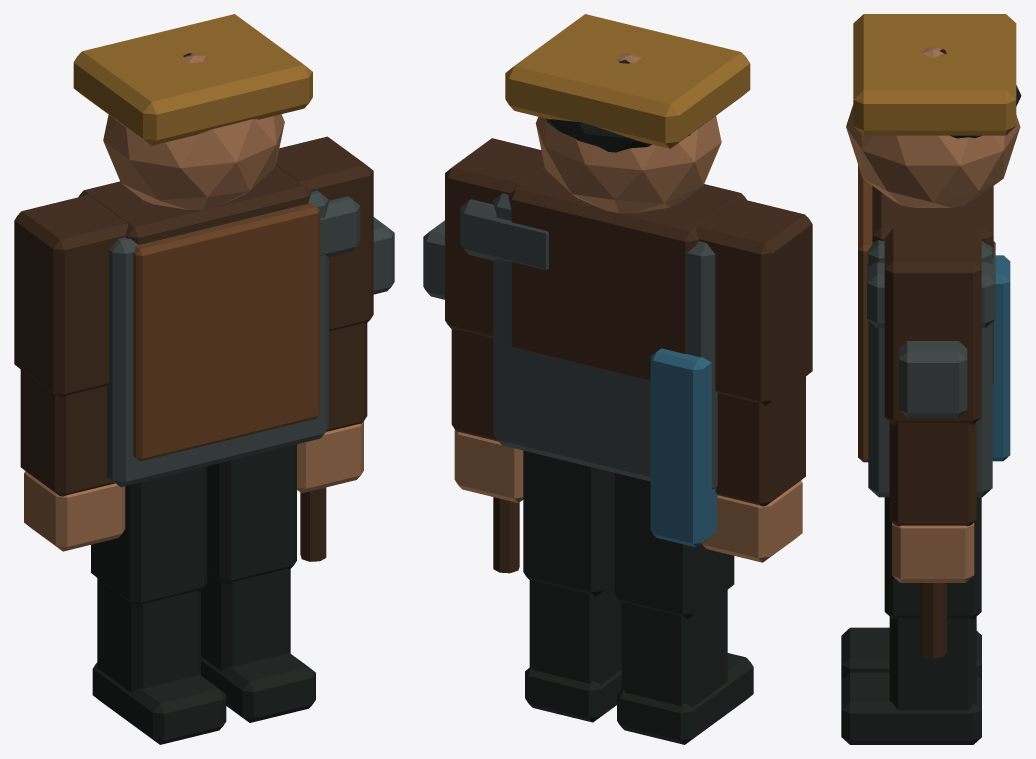
The model's file is ValeBelforgeForeman.glb.
The picture shows the model from 3 angles, left to right: view 1: azimuth 30°, elevation 25°; view 2: azimuth 150°, elevation 25°; view 3: azimuth 270°, elevation 25°; orthographic projection. The views are drawn at different scales.
Parts seen in each view (by area): view 1: UpperTorso_WorkHarness, Head_ForemanCap, LeftUpperArm, UpperTorso_Tunic, Head, LeftUpperLeg, RightUpperLeg, LeftLowerLeg, LeftLowerArm, RightUpperArm, RightLowerLeg, UpperTorso (+8 smaller); view 2: UpperTorso, UpperTorso_Tunic, Head_ForemanCap, LeftUpperArm, LowerTorso_BlueprintTube, RightUpperLeg, Head, LeftUpperLeg, LeftLowerLeg, LeftLowerArm, RightUpperArm, RightLowerLeg (+9 smaller); view 3: Head_ForemanCap, RightUpperArm, Head, RightLowerArm, RightLowerLeg, RightFoot, UpperTorso_Tunic, RightHand_HammerHead, RightHand, UpperTorso, RightUpperLeg, LowerTorso_BlueprintTube (+4 smaller).
Part boxes in pixels (x1,y1,x2,y2): UpperTorso_WorkHarness: [133, 203, 320, 461]; Head_ForemanCap: [73, 14, 312, 145]; LeftUpperArm: [14, 195, 128, 398]; UpperTorso_Tunic: [107, 190, 328, 487]; Head: [103, 53, 284, 209]; LeftUpperLeg: [91, 466, 207, 606]; RightUpperLeg: [207, 444, 296, 584]; LeftLowerLeg: [97, 578, 200, 692]; LeftLowerArm: [20, 369, 114, 496]; RightUpperArm: [276, 136, 373, 331]; RightLowerLeg: [201, 569, 290, 670]; UpperTorso: [78, 165, 311, 244]; UpperTorso: [508, 168, 746, 380]; UpperTorso_Tunic: [493, 193, 717, 489]; Head_ForemanCap: [505, 14, 750, 148]; LeftUpperArm: [696, 197, 812, 406]; LowerTorso_BlueprintTube: [650, 348, 717, 547]; RightUpperLeg: [523, 450, 614, 596]; Head: [535, 53, 721, 213]; LeftUpperLeg: [615, 473, 734, 619]; LeftLowerLeg: [621, 590, 727, 707]; LeftLowerArm: [715, 376, 805, 506]; RightUpperArm: [445, 138, 544, 337]; RightLowerLeg: [529, 580, 621, 684]; Head_ForemanCap: [853, 14, 1016, 135]; RightUpperArm: [884, 228, 981, 424]; Head: [846, 47, 1020, 207]; RightLowerArm: [889, 422, 976, 526]; RightLowerLeg: [889, 617, 976, 710]; RightFoot: [841, 672, 981, 744]; UpperTorso_Tunic: [868, 186, 992, 497]; RightHand_HammerHead: [899, 341, 967, 417]; RightHand: [892, 522, 974, 582]; UpperTorso: [872, 186, 993, 383]; RightUpperLeg: [884, 497, 981, 619]; LowerTorso_BlueprintTube: [992, 255, 1010, 461].
Bounding box in the file's own units: 4.81 × 8.48 × 2.1.
Materials: 1 (1 with a texture image).
